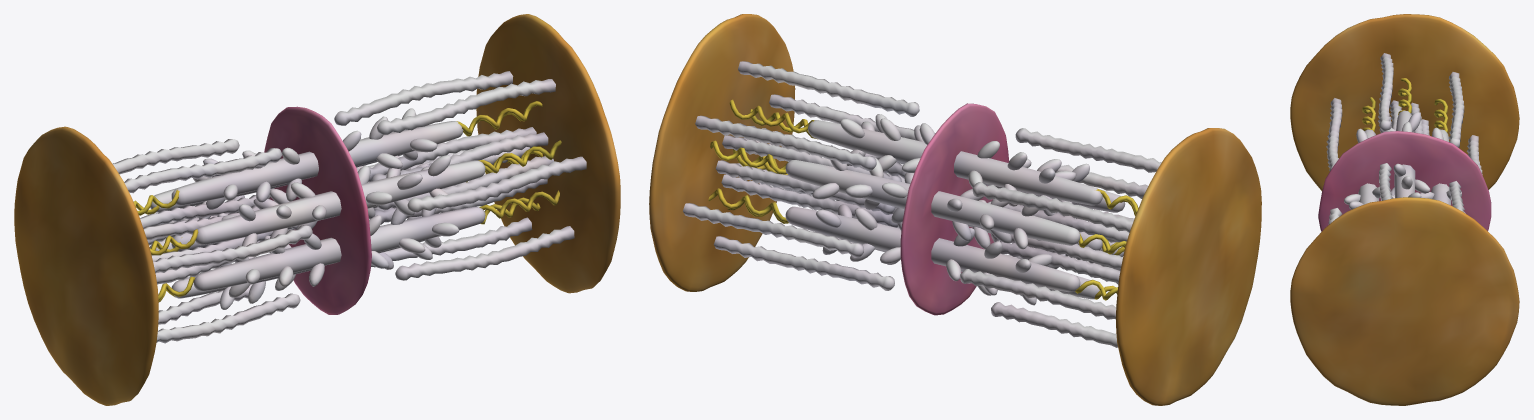
File: sarcomere.glb
3 renders of one model, left to right at view 1: azimuth 30°, elevation 25°; view 2: azimuth 150°, elevation 25°; view 3: azimuth 270°, elevation 25°, orthographic. The views are drawn at different scales.
Visible parts, largest first — view 1: sarcomere-z-discs, sarcomere-actin, sarcomere-myosin, sarcomere-m-line, sarcomere-heads, sarcomere-titin; view 2: sarcomere-z-discs, sarcomere-actin, sarcomere-myosin, sarcomere-m-line, sarcomere-heads, sarcomere-titin; view 3: sarcomere-z-discs, sarcomere-m-line, sarcomere-actin, sarcomere-heads, sarcomere-myosin, sarcomere-titin.
Boxes of the visible parts, x1,y1,x2,y2 form: sarcomere-z-discs: [14, 14, 620, 405]; sarcomere-actin: [112, 71, 586, 343]; sarcomere-myosin: [149, 121, 485, 298]; sarcomere-m-line: [264, 106, 371, 314]; sarcomere-heads: [182, 108, 459, 309]; sarcomere-titin: [133, 101, 561, 302]; sarcomere-z-discs: [649, 14, 1261, 405]; sarcomere-actin: [683, 61, 1161, 347]; sarcomere-myosin: [785, 120, 1125, 299]; sarcomere-m-line: [900, 103, 1009, 315]; sarcomere-heads: [812, 114, 1092, 305]; sarcomere-titin: [708, 99, 1138, 300]; sarcomere-z-discs: [1290, 14, 1519, 405]; sarcomere-m-line: [1318, 131, 1491, 231]; sarcomere-actin: [1326, 53, 1482, 224]; sarcomere-heads: [1344, 112, 1465, 213]; sarcomere-myosin: [1358, 110, 1451, 205]; sarcomere-titin: [1362, 78, 1448, 132].
Size of what is drawn, in the model's own units: 2.6 by 1.32 by 1.32.
